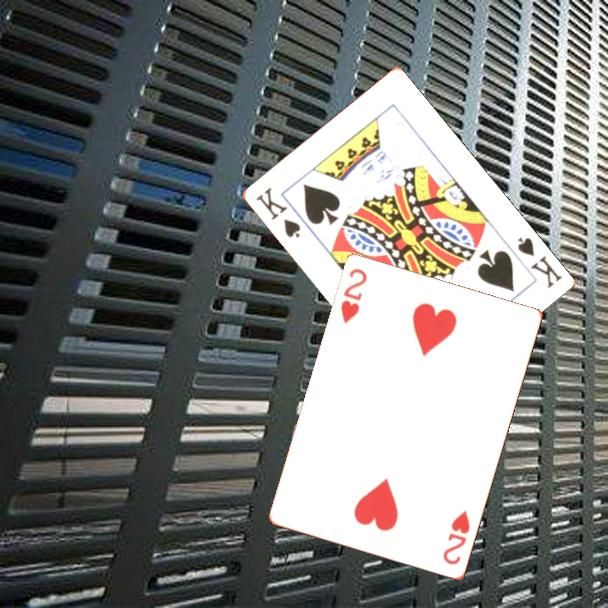h02: (337, 265, 370, 327), (440, 507, 473, 568)
s13: (513, 234, 565, 291), (252, 184, 303, 241)
